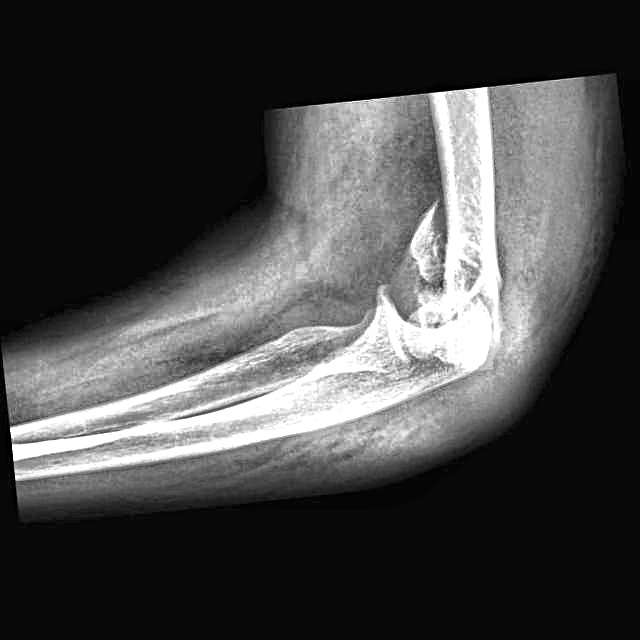Oblique Displaced: (395, 188, 509, 341)
